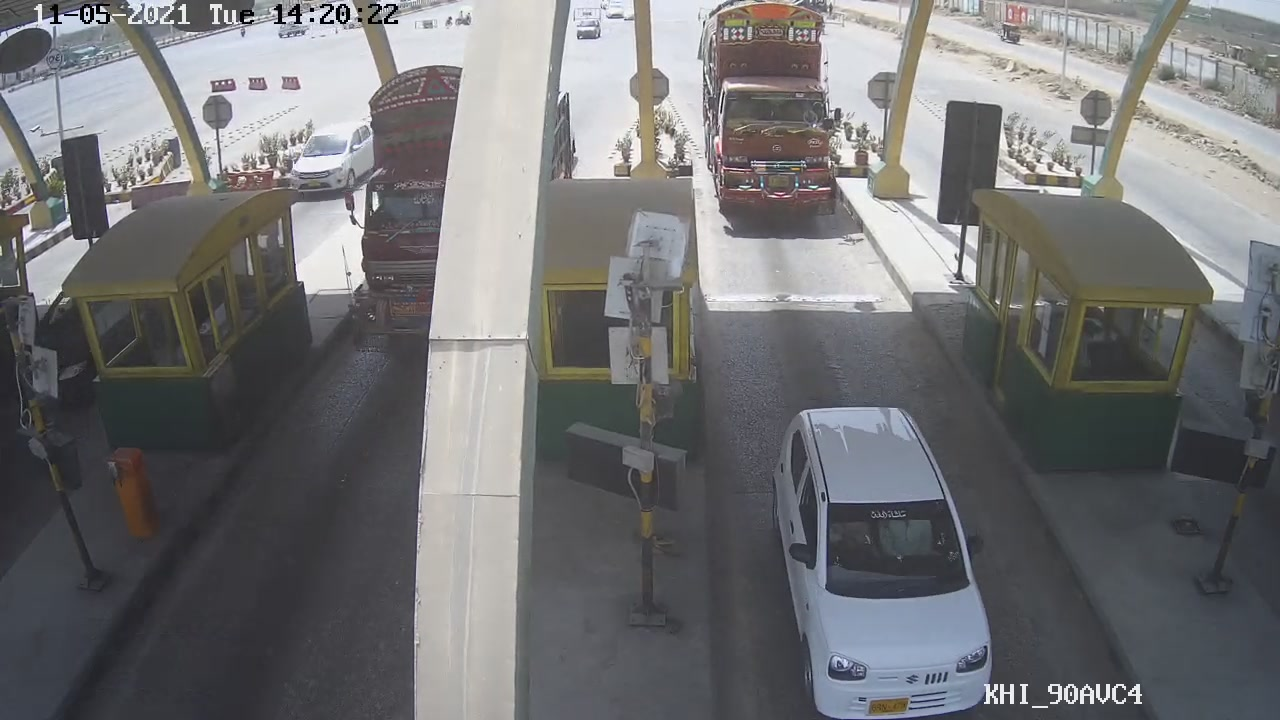F1: (762, 405, 1024, 717)
F5: (700, 1, 848, 220)
